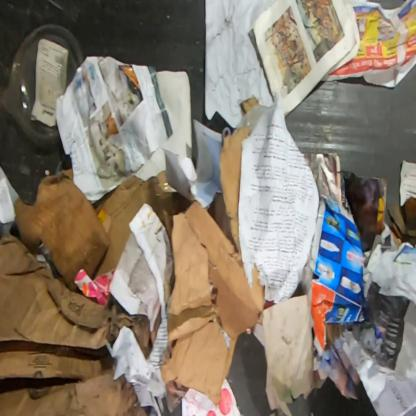cardboard: (0, 232, 153, 415), (13, 168, 196, 292), (160, 199, 267, 406), (308, 194, 372, 357), (220, 126, 252, 255)
rigid_plastic: (2, 23, 85, 150)
